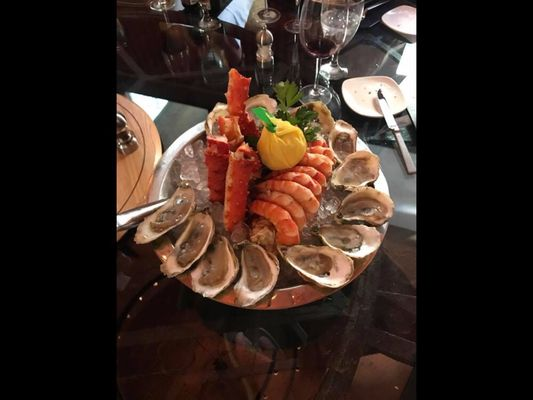sandwich: (376, 87, 416, 175)
sushi: (341, 75, 414, 119)
